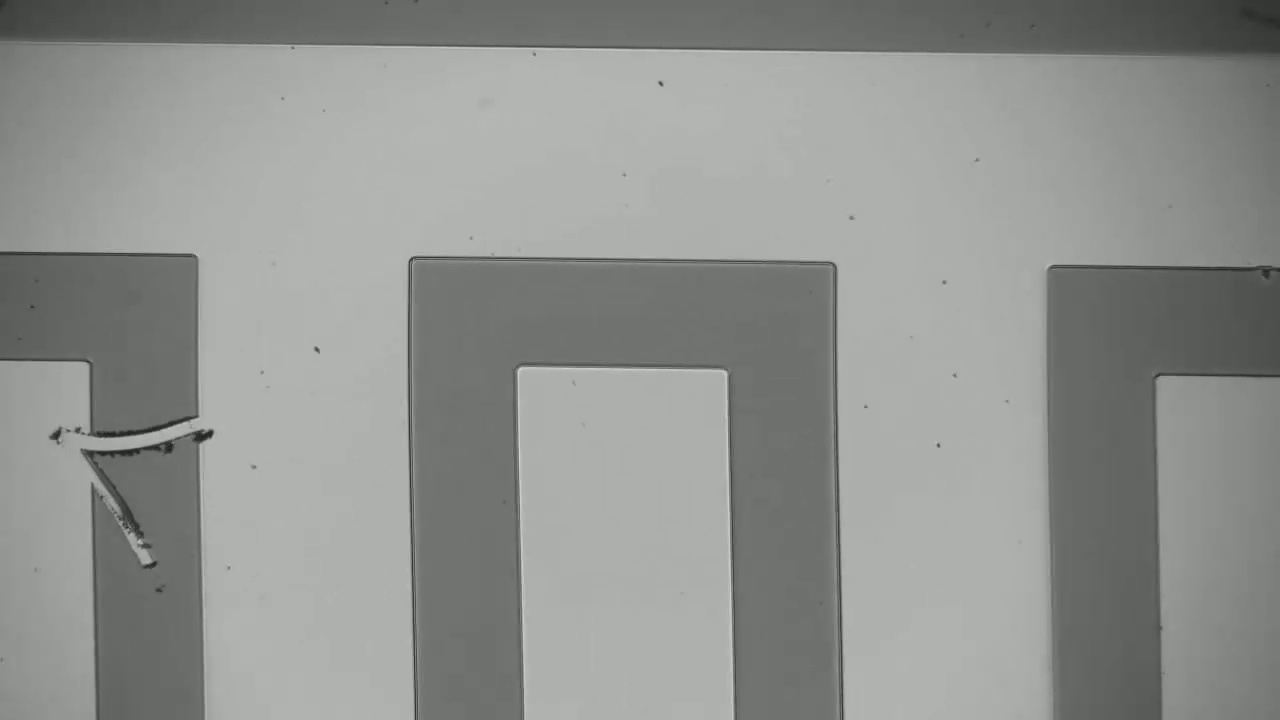Short_circuit: (55, 394, 220, 484)
